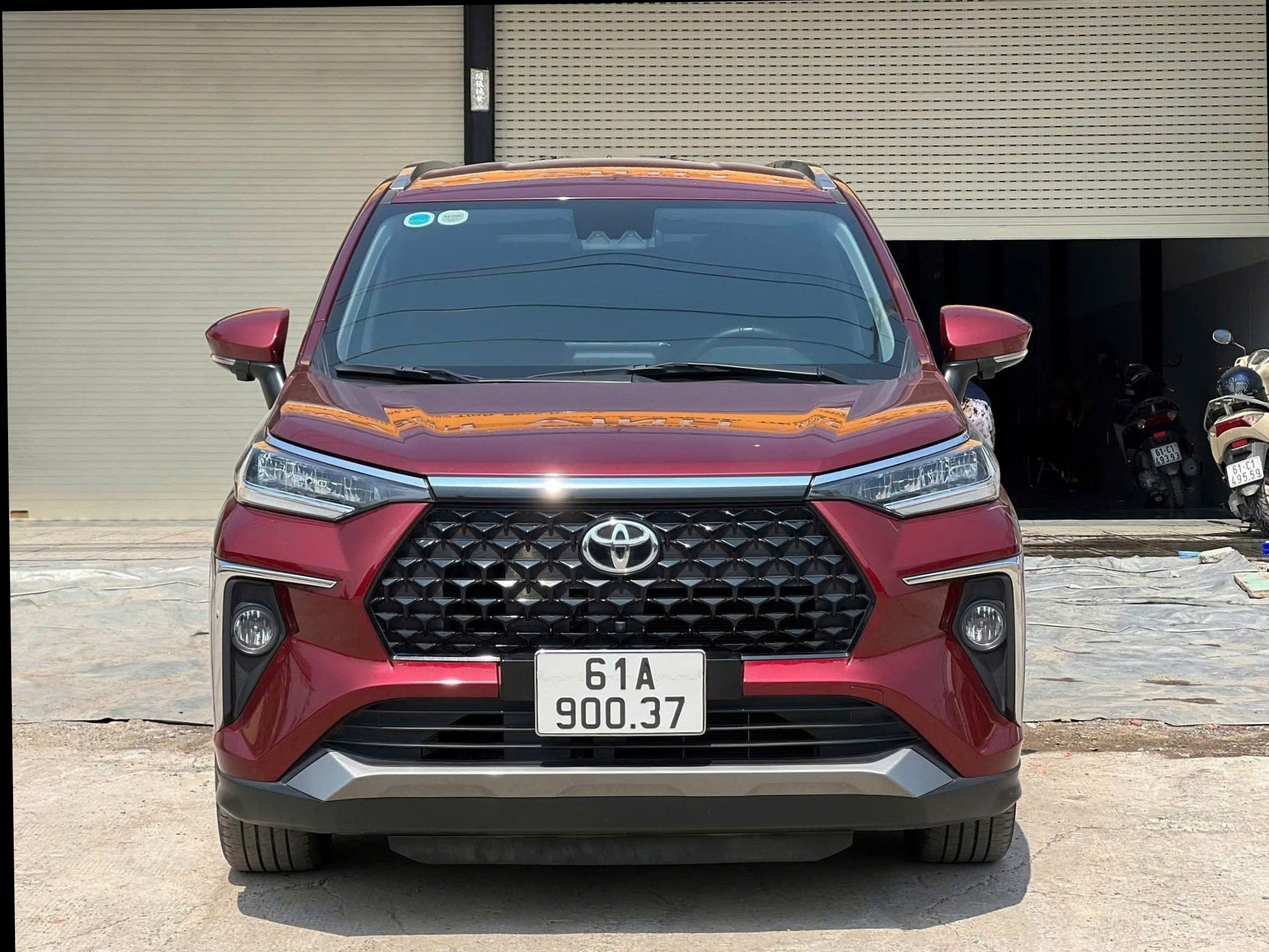Bien-so: (527, 643, 712, 740)
